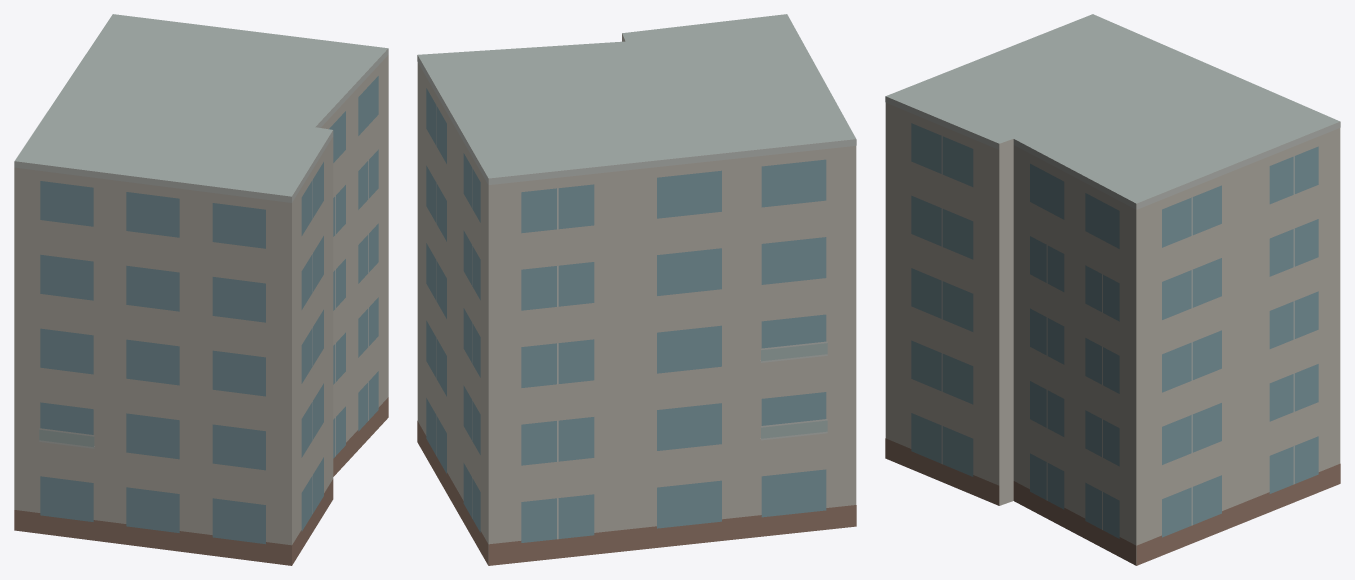
File: survey-upis-32970011.glb
The picture shows the model from 3 angles, left to right: view 1: azimuth 30°, elevation 25°; view 2: azimuth 150°, elevation 25°; view 3: azimuth 270°, elevation 25°; orthographic projection. The views are drawn at different scales.
Parts seen in each view (by area): view 1: survey-upis-32970011.tmp; view 2: survey-upis-32970011.tmp; view 3: survey-upis-32970011.tmp.
Boxes of the visible parts, <box> form: survey-upis-32970011.tmp: <box>14,14,388,565</box>; survey-upis-32970011.tmp: <box>417,14,856,565</box>; survey-upis-32970011.tmp: <box>885,14,1340,565</box>.
Size of the model in its own units: 15.96 by 14.2 by 16.17.
